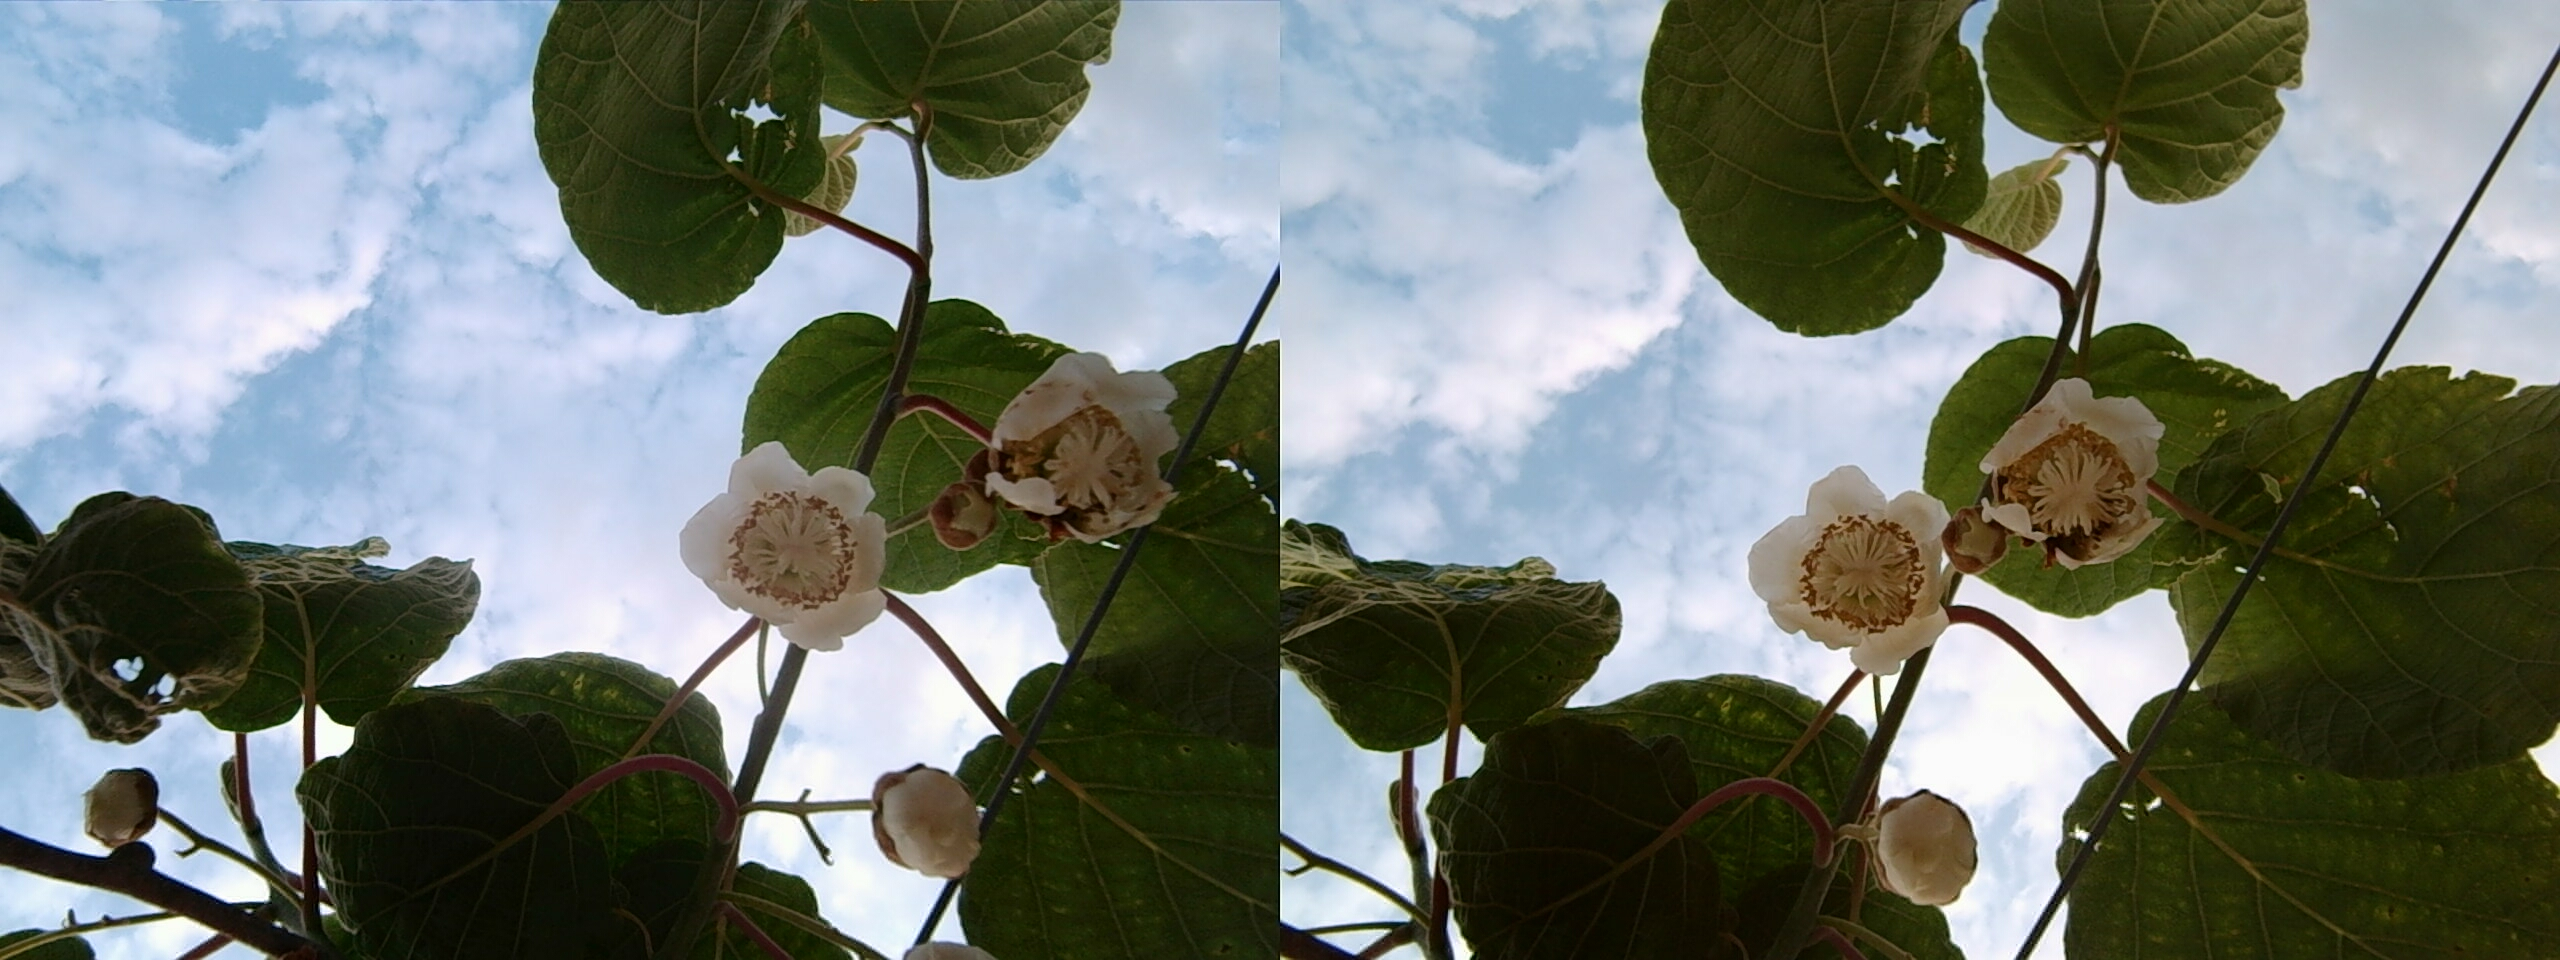flower: (1745, 456, 1971, 663), (676, 438, 891, 642), (970, 353, 1176, 544), (1964, 376, 2168, 565)
